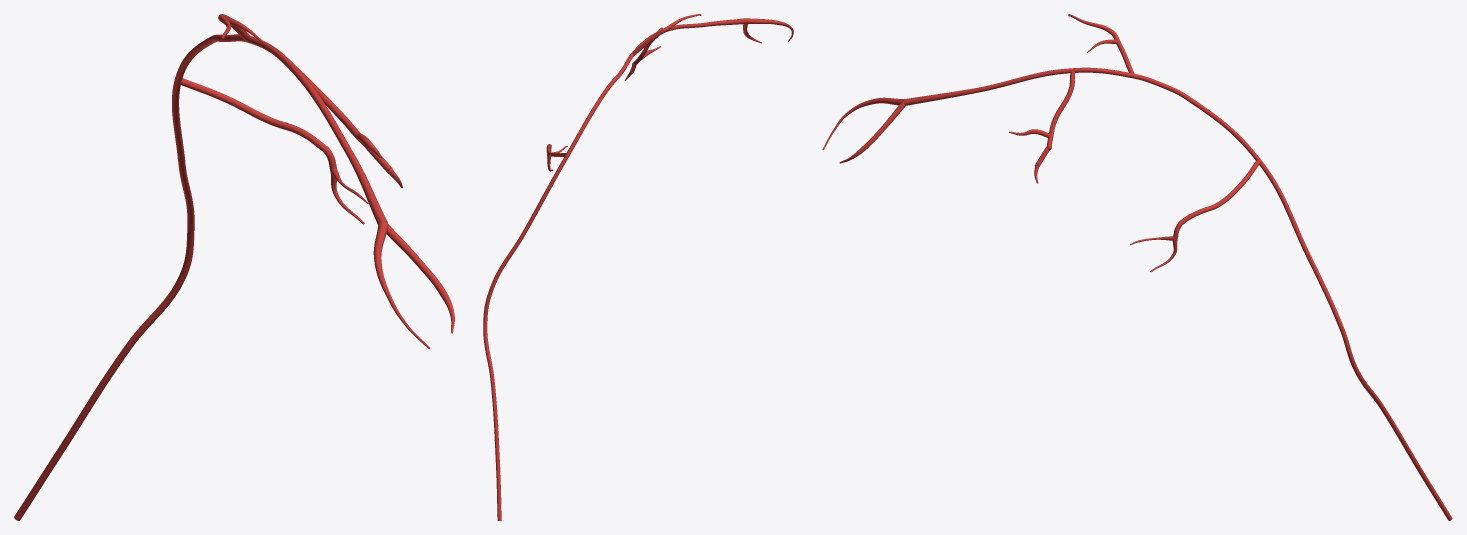
The picture shows the model from 3 angles, left to right: view 1: azimuth 30°, elevation 25°; view 2: azimuth 150°, elevation 25°; view 3: azimuth 270°, elevation 25°; orthographic projection. The views are drawn at different scales.
Parts seen in each view (by area): view 1: 左侧枕动脉; view 2: 左侧枕动脉; view 3: 左侧枕动脉.
Part boxes in pixels (x1,y1,x2,y2): 左侧枕动脉: [14, 14, 454, 520]; 左侧枕动脉: [483, 14, 793, 520]; 左侧枕动脉: [822, 14, 1452, 520].
Bounding box in the file's own units: 0.0474 × 0.1577 × 0.1869.
